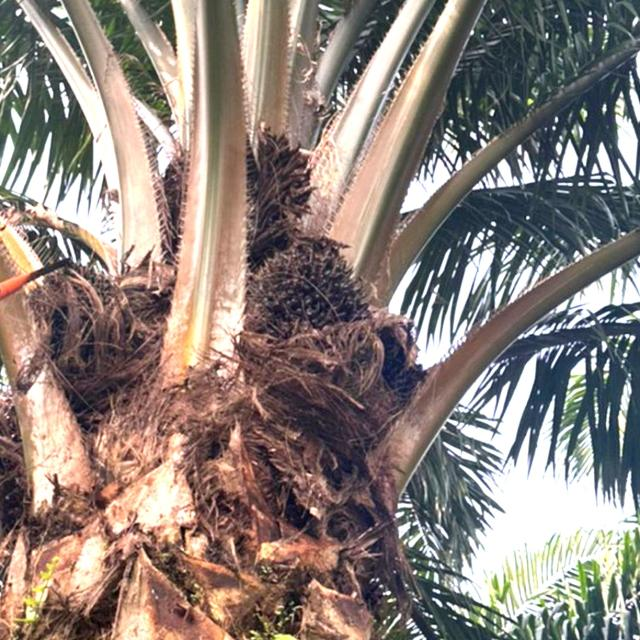unripe: (225, 228, 391, 410)
